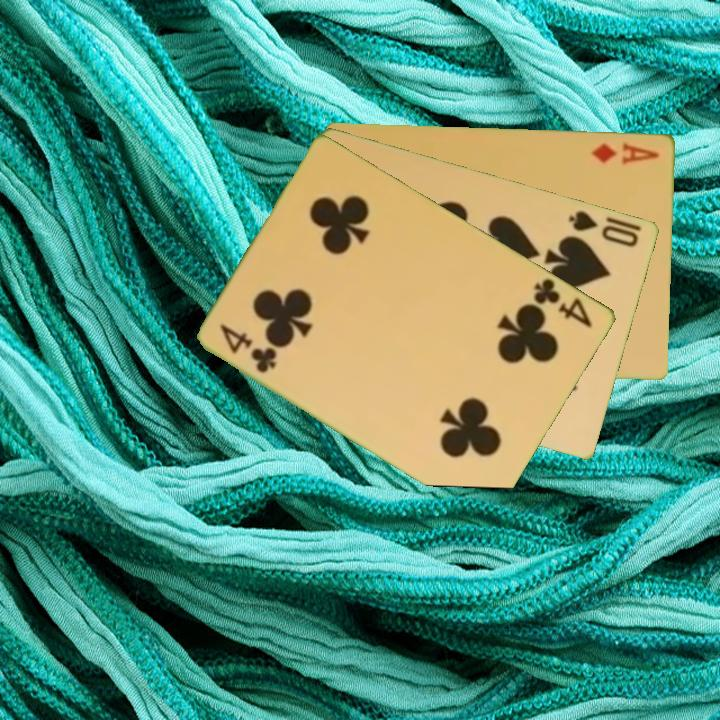10s: (565, 206, 642, 250)
4c: (530, 274, 596, 331), (217, 320, 280, 376)
Ad: (588, 138, 662, 167)
